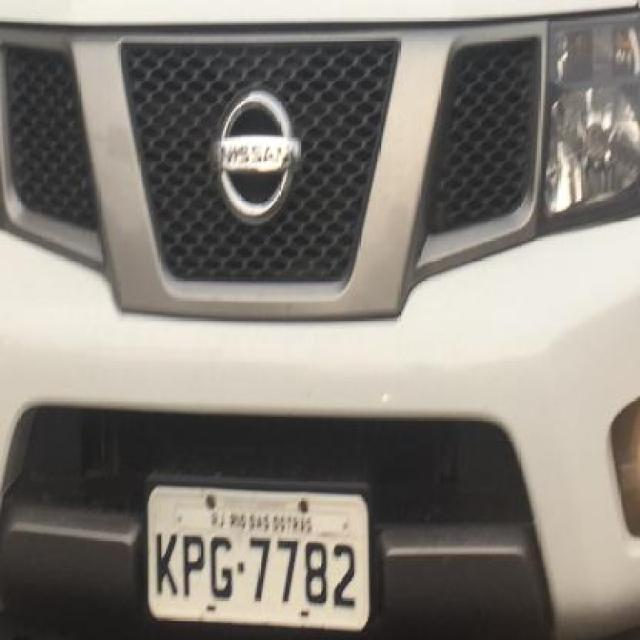old_plate: (140, 478, 378, 636)
